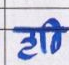i_matra: (46, 18, 60, 53)
